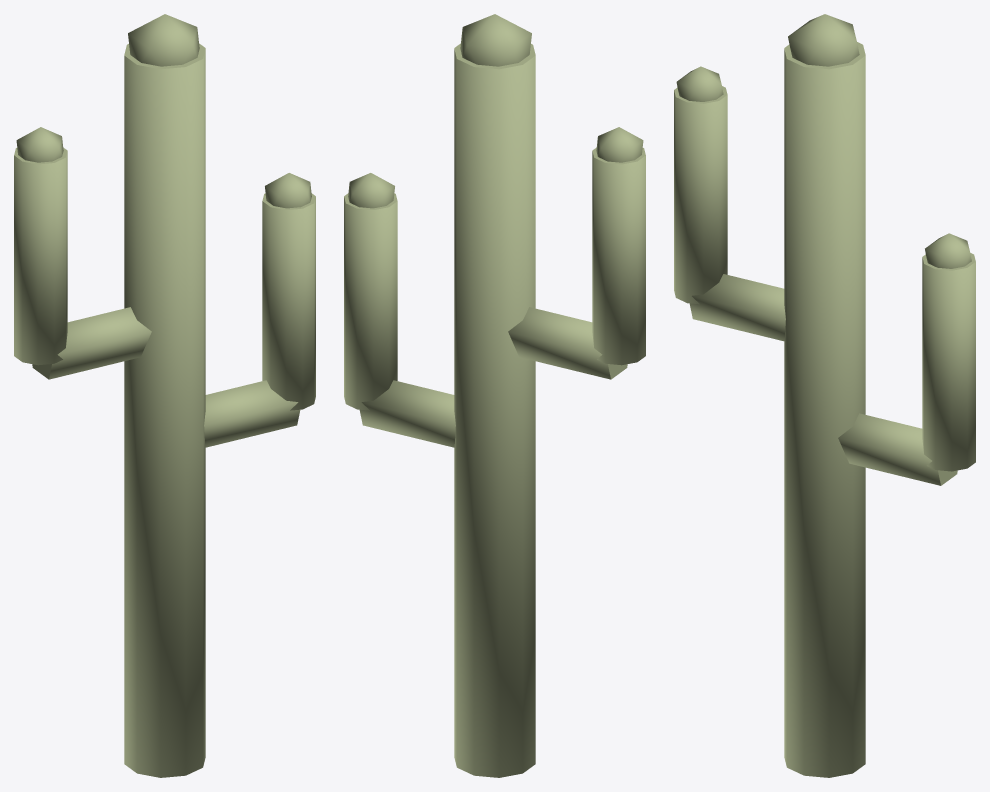
Rendered from arizona-saguaro_lod1.glb.
3 views of the same model, side by side, from view 1: azimuth 30°, elevation 25°; view 2: azimuth 150°, elevation 25°; view 3: azimuth 330°, elevation 25° (orthographic).
Parts seen in each view (by area): view 1: RF_CactusStem, RF_CactusUpright.001, RF_CactusUpright, RF_CactusArm.001, RF_CactusArm, RF_CactusTip, RF_CactusArmTip, RF_CactusArmTip.001; view 2: RF_CactusStem, RF_CactusUpright.001, RF_CactusUpright, RF_CactusArm.001, RF_CactusArm, RF_CactusTip, RF_CactusArmTip, RF_CactusArmTip.001; view 3: RF_CactusStem, RF_CactusUpright, RF_CactusUpright.001, RF_CactusArm, RF_CactusArm.001, RF_CactusTip, RF_CactusArmTip, RF_CactusArmTip.001.
Part boxes in pixels (box(x1,y1,x2,y2)): RF_CactusStem: box(124, 43, 205, 777); RF_CactusUpright.001: box(14, 147, 67, 365); RF_CactusUpright: box(262, 193, 315, 410); RF_CactusArm.001: box(32, 307, 151, 379); RF_CactusArm: box(204, 380, 300, 447); RF_CactusTip: box(128, 14, 199, 66); RF_CactusArmTip: box(16, 127, 63, 162); RF_CactusArmTip.001: box(265, 173, 311, 208); RF_CactusStem: box(454, 43, 535, 777); RF_CactusUpright.001: box(592, 147, 645, 365); RF_CactusUpright: box(344, 193, 397, 410); RF_CactusArm.001: box(508, 307, 627, 379); RF_CactusArm: box(359, 380, 455, 447); RF_CactusTip: box(460, 14, 531, 66); RF_CactusArmTip: box(596, 127, 643, 162); RF_CactusArmTip.001: box(348, 173, 394, 208); RF_CactusStem: box(784, 42, 865, 777); RF_CactusUpright: box(922, 253, 975, 471); RF_CactusUpright.001: box(674, 86, 727, 304); RF_CactusArm: box(838, 413, 957, 485); RF_CactusArm.001: box(689, 274, 785, 341); RF_CactusTip: box(788, 14, 859, 66); RF_CactusArmTip: box(676, 66, 723, 101); RF_CactusArmTip.001: box(925, 233, 971, 268).
Size of the model in its own units: 2.6 by 6.32 by 0.64.
